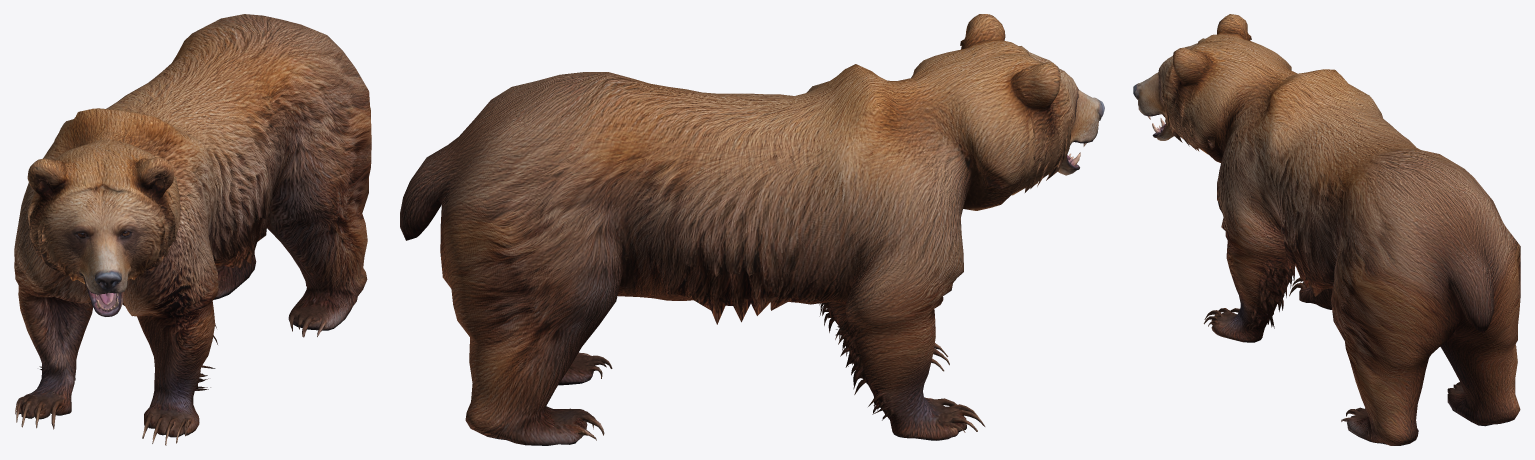
File: low_poly_bear_3d_model_free.glb
3 views of the same model, side by side, from view 1: azimuth 30°, elevation 25°; view 2: azimuth 150°, elevation 25°; view 3: azimuth 270°, elevation 25° (orthographic). The views are drawn at different scales.
Visible parts, largest first — view 1: Model_0; view 2: Model_0; view 3: Model_0.
Part boxes in pixels (x1,y1,x2,y2): Model_0: (14, 14, 371, 445); Model_0: (400, 14, 1104, 445); Model_0: (1133, 14, 1520, 445).
Size of the model in its own units: 1 by 0.6595 by 0.863.
Materials: 1 (1 with a texture image).
